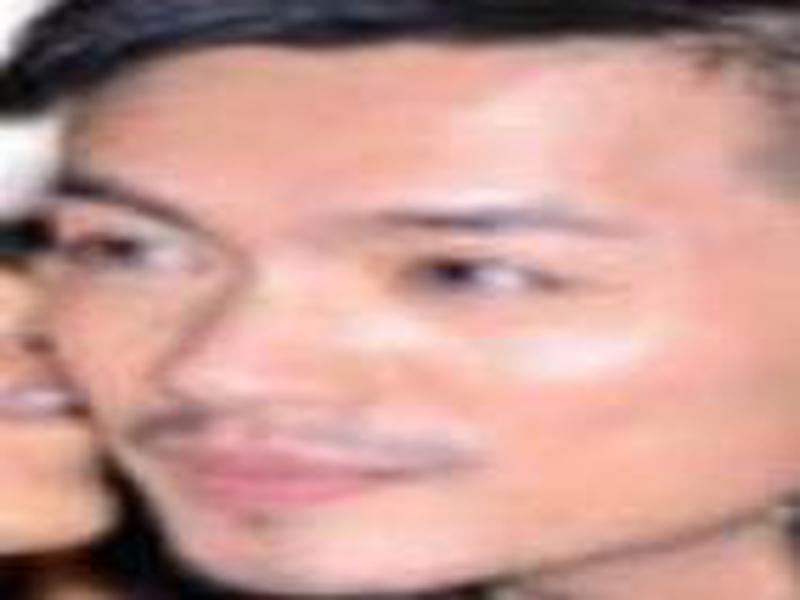without_mask: (45, 79, 800, 594)
